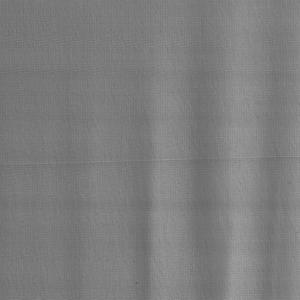Wrinkle: (126, 1, 300, 300), (33, 38, 106, 300)
